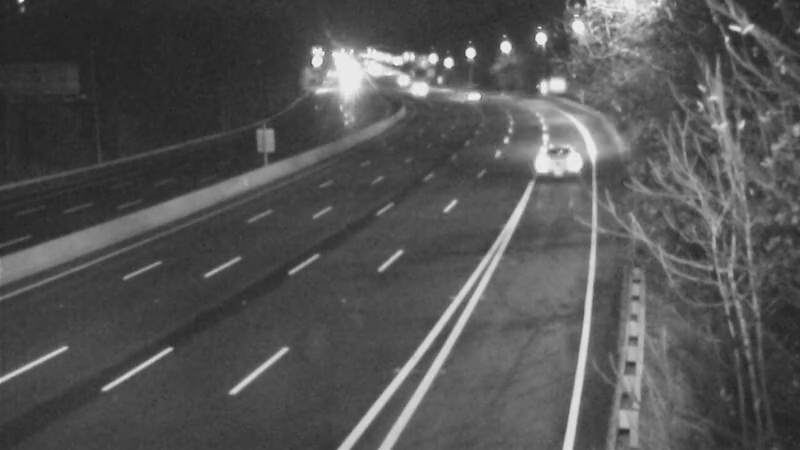vehicle: (517, 129, 597, 209), (375, 57, 425, 107), (394, 66, 444, 116), (450, 68, 500, 118)
